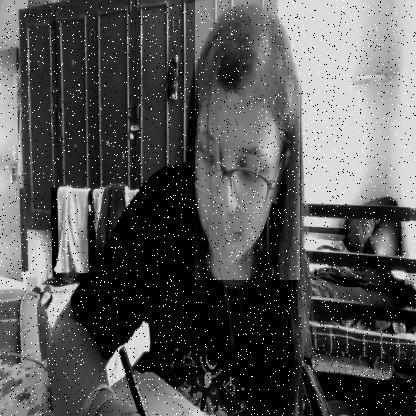Normal: (195, 0, 300, 280)
